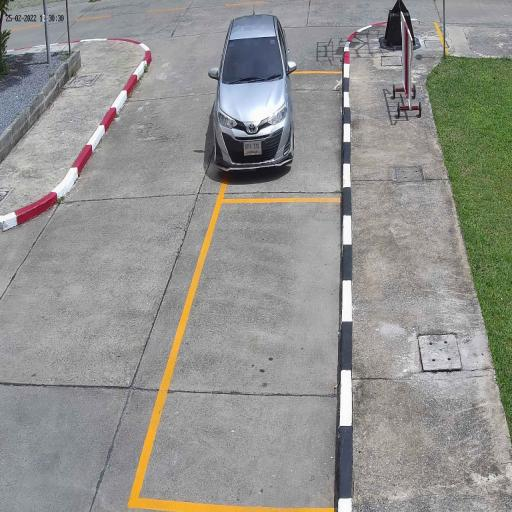car: (211, 12, 296, 172)
